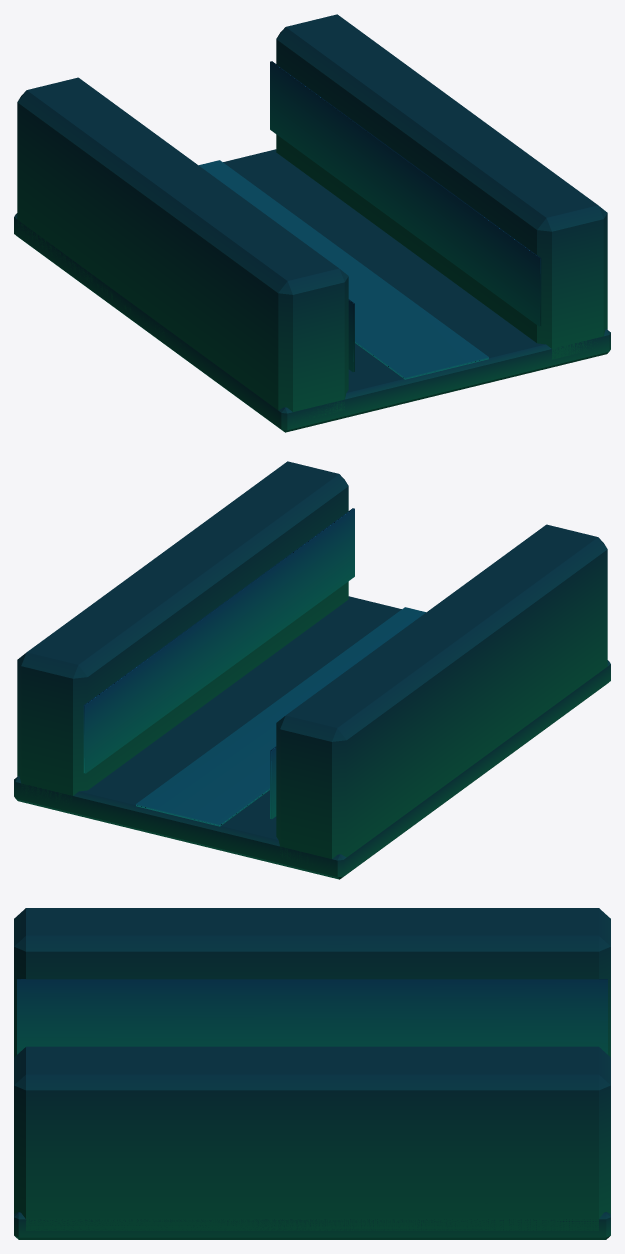
File: shrine_channel_straight.glb
3 renders of one model, top to bottom at view 1: azimuth 30°, elevation 25°; view 2: azimuth 150°, elevation 25°; view 3: azimuth 270°, elevation 25°, orthographic. The views are drawn at different scales.
Parts seen in each view (by area): view 1: shrine_channel_straight; view 2: shrine_channel_straight; view 3: shrine_channel_straight.
Boxes of the visible parts, x1,y1,x2,y2 form: shrine_channel_straight: (14, 14, 610, 432); shrine_channel_straight: (14, 461, 610, 879); shrine_channel_straight: (14, 908, 610, 1239).
Size of what is drawn, in the model's own units: 0.7 by 0.3 by 1.
